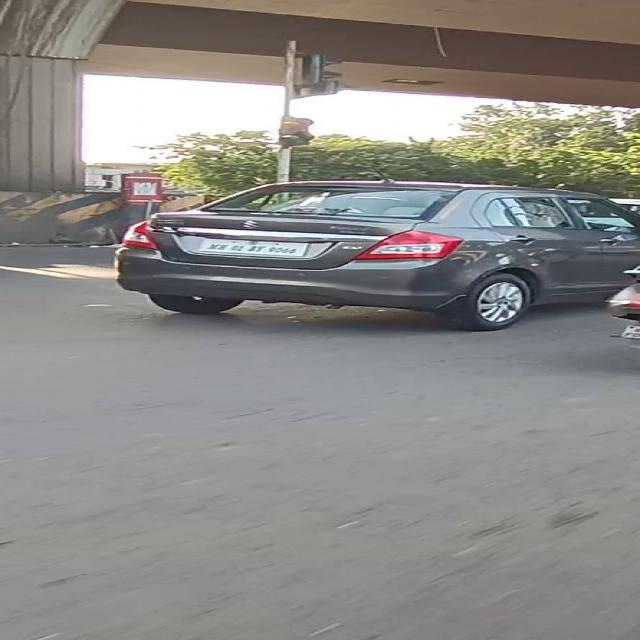Plate: (198, 238, 309, 258)
